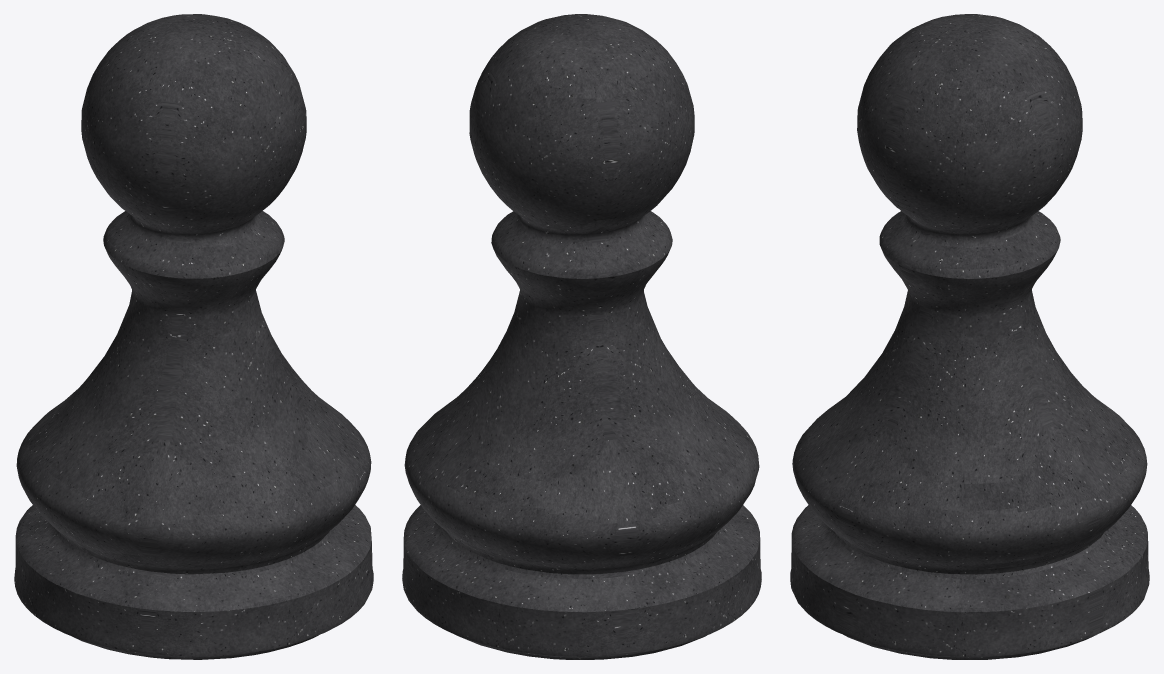
The model's file is pawn-black.glb.
The picture shows the model from 3 angles, left to right: view 1: azimuth 30°, elevation 25°; view 2: azimuth 150°, elevation 25°; view 3: azimuth 270°, elevation 25°; orthographic projection.
Parts seen in each view (by area): view 1: pesec_cerna; view 2: pesec_cerna; view 3: pesec_cerna.
Part boxes in pixels (left/top/right/bottom): pesec_cerna: left=14, top=14, right=373, bottom=659; pesec_cerna: left=402, top=14, right=761, bottom=659; pesec_cerna: left=790, top=14, right=1149, bottom=659.
Bounding box in the file's own units: 0.4943 × 0.8698 × 0.4945.
1 material, 1 textured.
